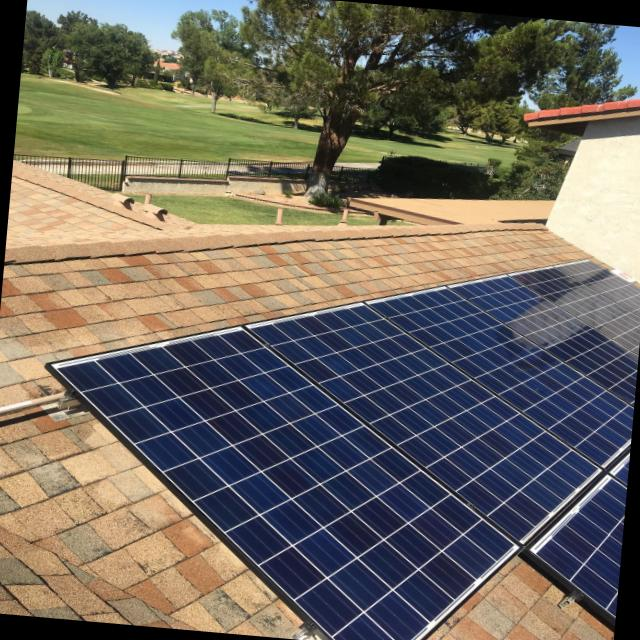no faulty: (64, 265, 640, 640)
